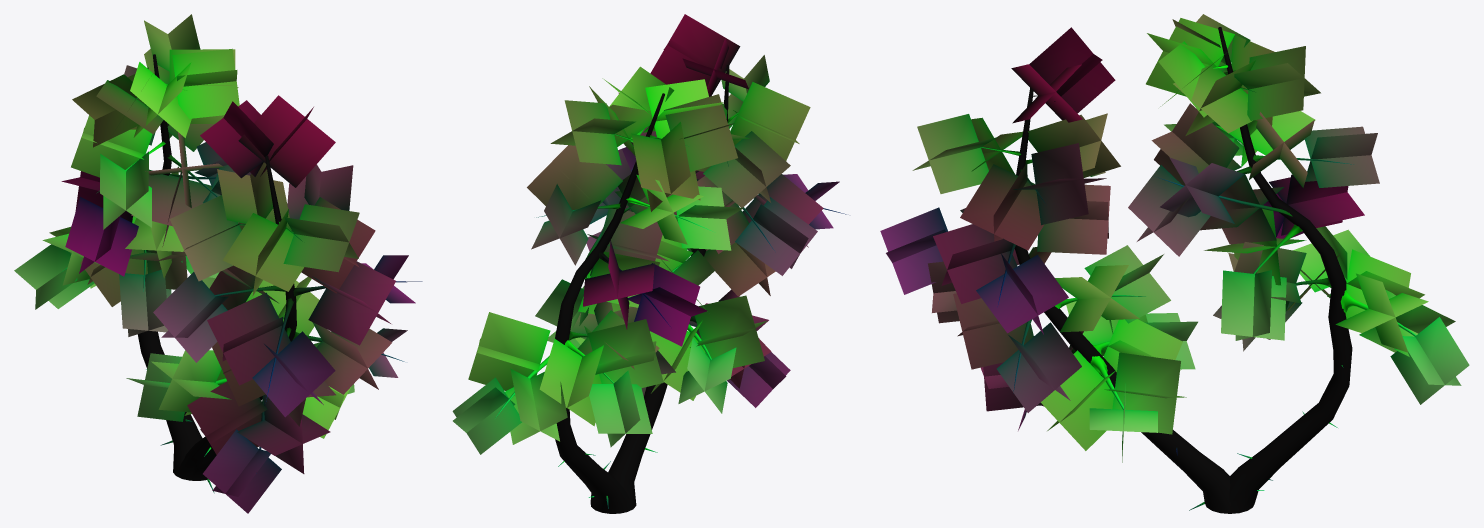
File: M_P7_Tree_10.fbx
The picture shows the model from 3 angles, left to right: view 1: azimuth 30°, elevation 25°; view 2: azimuth 150°, elevation 25°; view 3: azimuth 270°, elevation 25°; orthographic projection. The views are drawn at different scales.
Visible parts, largest first — view 1: Tree_10; view 2: Tree_10; view 3: Tree_10.
Boxes of the visible parts, left/top/right/bottom form: Tree_10: left=14, top=14, right=422, bottom=513; Tree_10: left=452, top=14, right=846, bottom=513; Tree_10: left=880, top=14, right=1469, bottom=513.
Size of the model in its own units: 254 by 443 by 509.
